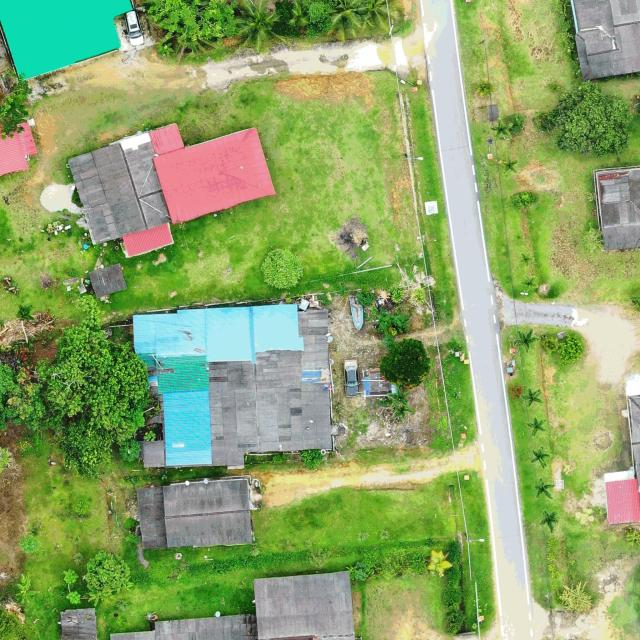Tree: (35, 296, 151, 479), (550, 80, 632, 158), (379, 337, 433, 387), (232, 0, 282, 52), (84, 549, 132, 596), (261, 246, 305, 290), (558, 580, 593, 613), (556, 330, 584, 365), (15, 572, 40, 606), (514, 328, 540, 352), (386, 386, 412, 408), (490, 117, 513, 140), (526, 416, 548, 438), (532, 478, 554, 500), (540, 509, 559, 534), (504, 193, 525, 214), (521, 388, 542, 408), (530, 446, 549, 468), (392, 402, 414, 420), (499, 155, 518, 175), (519, 274, 539, 292), (476, 80, 494, 97), (519, 251, 534, 266)
